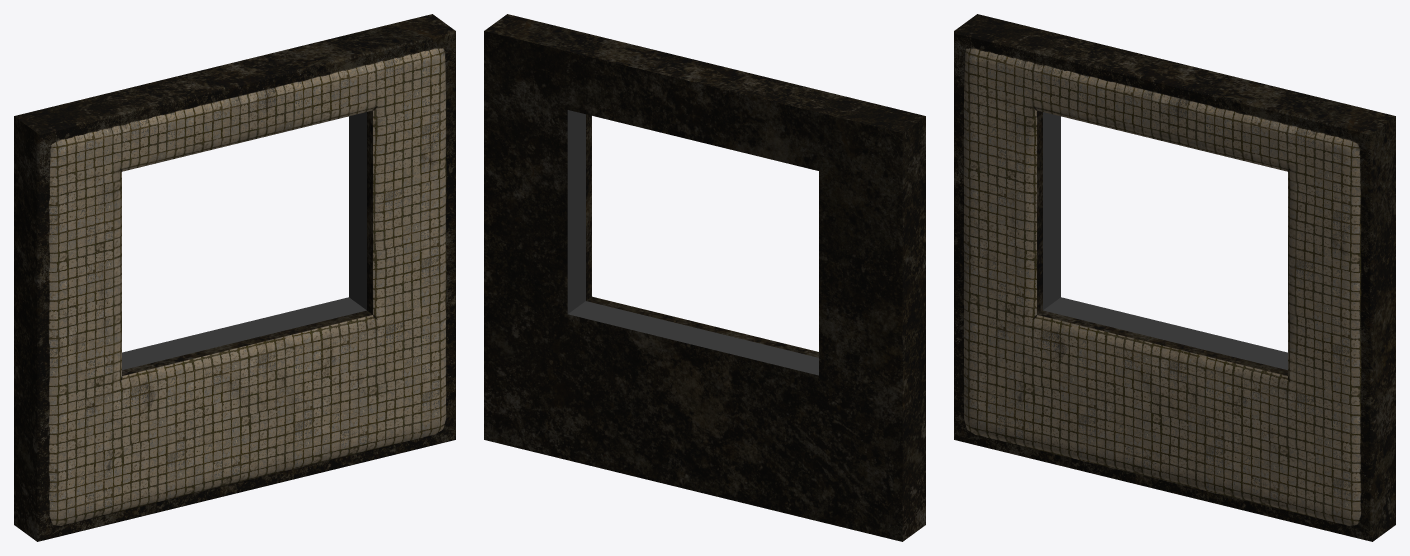
Rendered from SM_WallWindowWide02.FBX.
3 views of the same model, side by side, from view 1: azimuth 30°, elevation 25°; view 2: azimuth 150°, elevation 25°; view 3: azimuth 330°, elevation 25° (orthographic).
Parts seen in each view (by area): view 1: SM_WallWindowWide02_LOD0; view 2: SM_WallWindowWide02_LOD0; view 3: SM_WallWindowWide02_LOD0.
Boxes of the visible parts, box(x1,y1,x2,y2) form: SM_WallWindowWide02_LOD0: box(14, 14, 455, 541); SM_WallWindowWide02_LOD0: box(484, 14, 925, 541); SM_WallWindowWide02_LOD0: box(954, 14, 1395, 541).
Bounding box in the file's own units: 300 × 32.43 × 280.
